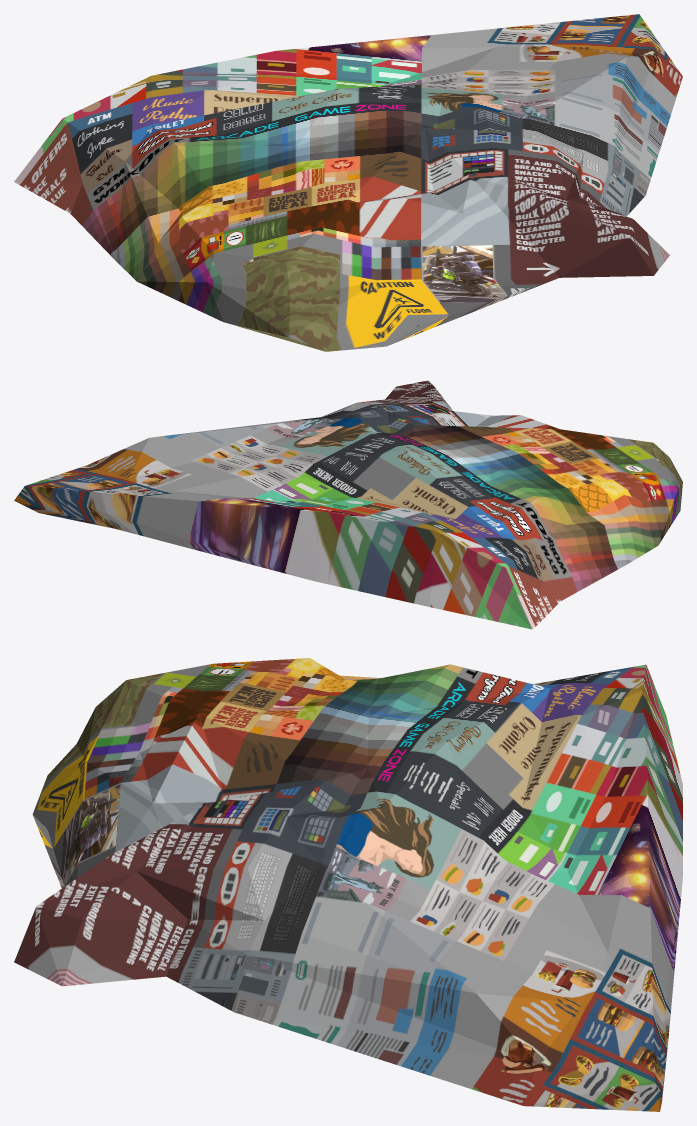
File: SM_Prop_TrashPile_08.obj
The picture shows the model from 3 angles, top to bottom: view 1: azimuth 30°, elevation 25°; view 2: azimuth 150°, elevation 25°; view 3: azimuth 270°, elevation 25°; orthographic projection. The views are drawn at different scales.
Parts seen in each view (by area): view 1: SM_Prop_TrashPile_08_0; view 2: SM_Prop_TrashPile_08_0; view 3: SM_Prop_TrashPile_08_0.
Part boxes in pixels (x1,y1,x2,y2): SM_Prop_TrashPile_08_0: (14,14,682,351); SM_Prop_TrashPile_08_0: (14,380,682,629); SM_Prop_TrashPile_08_0: (14,658,682,1111).
Size of the model in its own units: 3.86 by 0.6404 by 2.68.
Materials: 1 (1 with a texture image).
